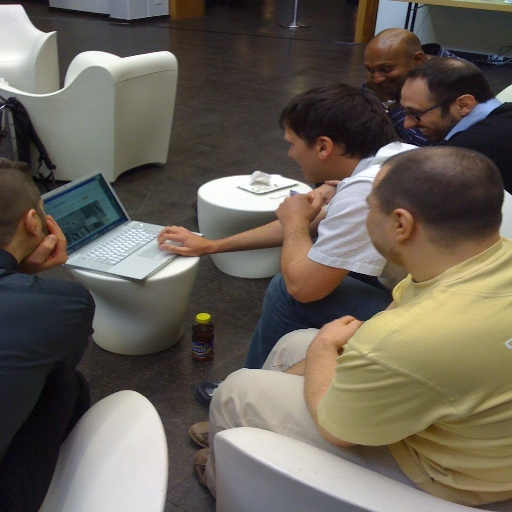hand: (21, 215, 69, 276), (320, 314, 372, 368), (271, 191, 324, 229), (155, 224, 215, 256)
